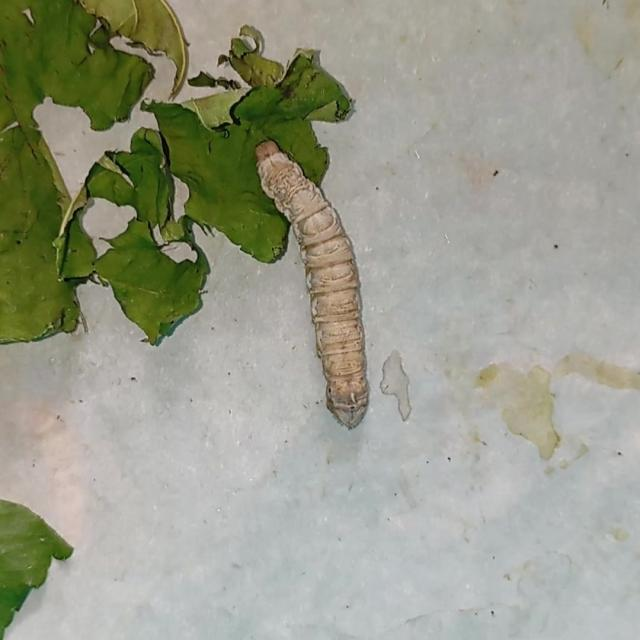Grasserie: (243, 129, 386, 433)
